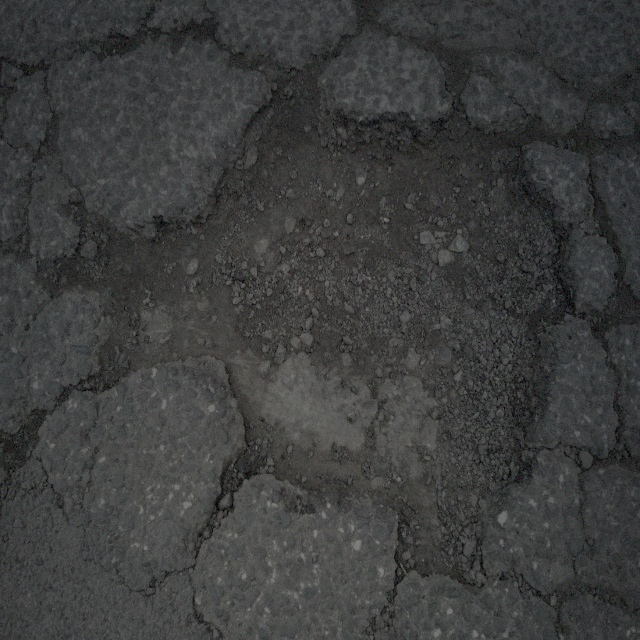pothole: (89, 66, 576, 589)
